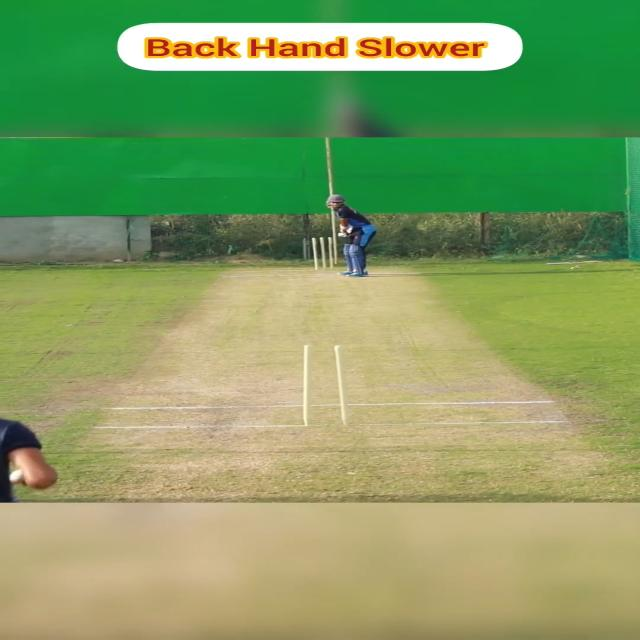stump: (301, 344, 351, 426), (310, 237, 334, 270)
